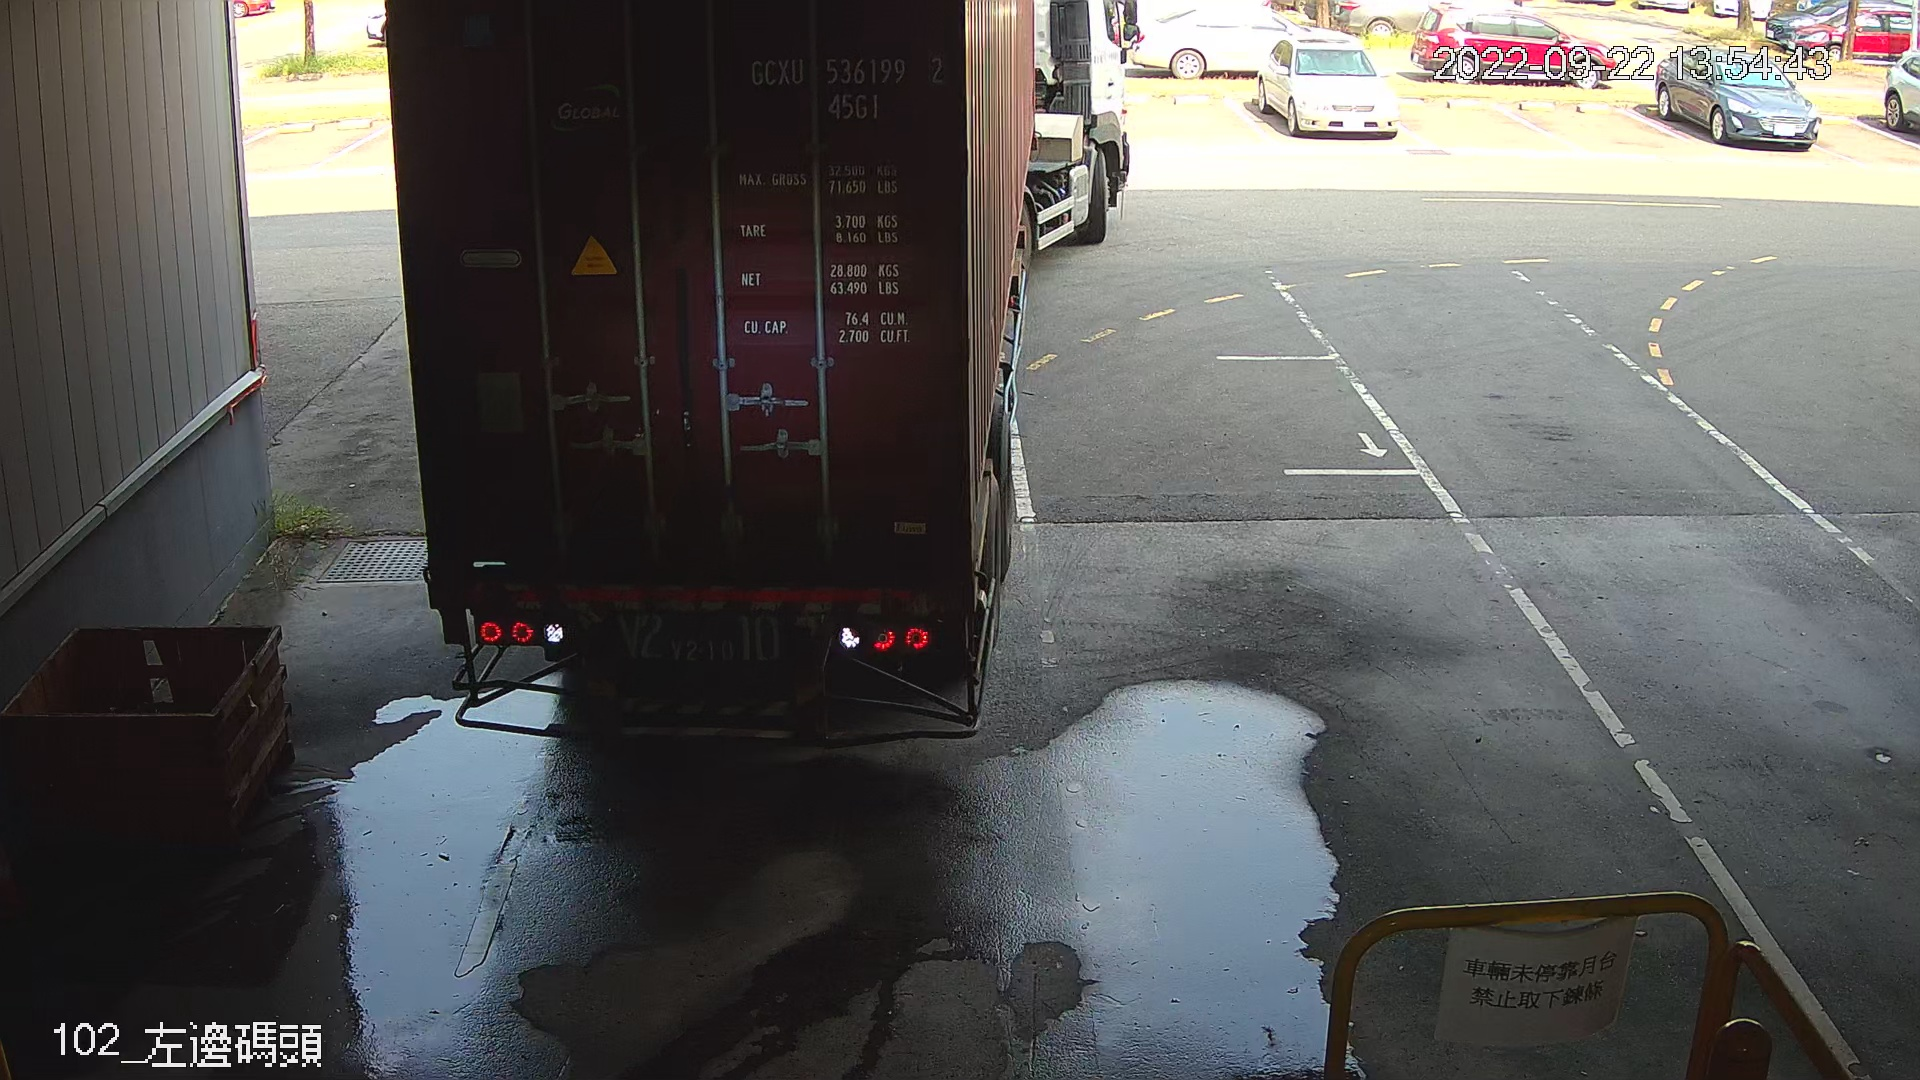container: (738, 42, 956, 131)
